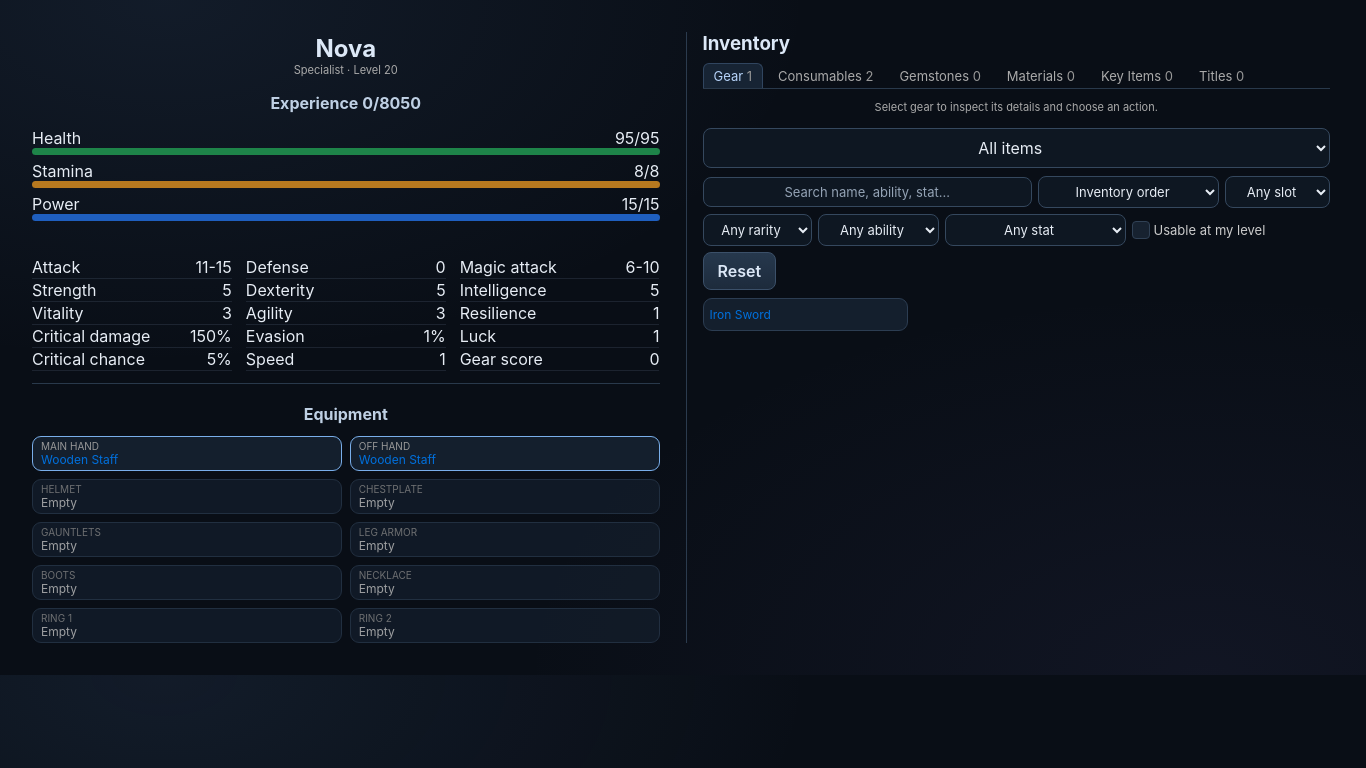
renames gear through the certificate UI and updates the remaining count
The width and height of the screenshot is (1366, 768).
Step 1. Click the tab "Consumables 2" → (826, 76), box [767,63,884,88]
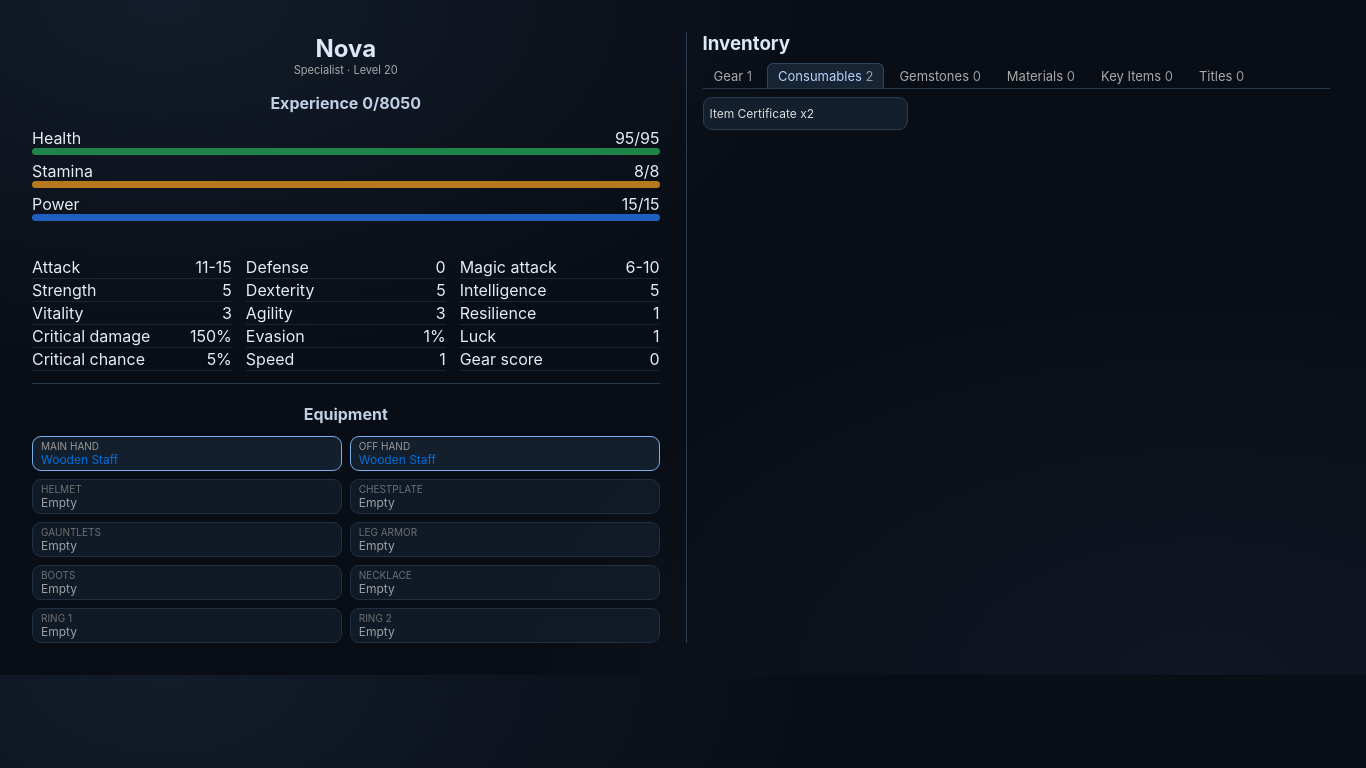
Step 2. Click the button "Item Certificate x2" → (805, 114), box [702,97,908,130]
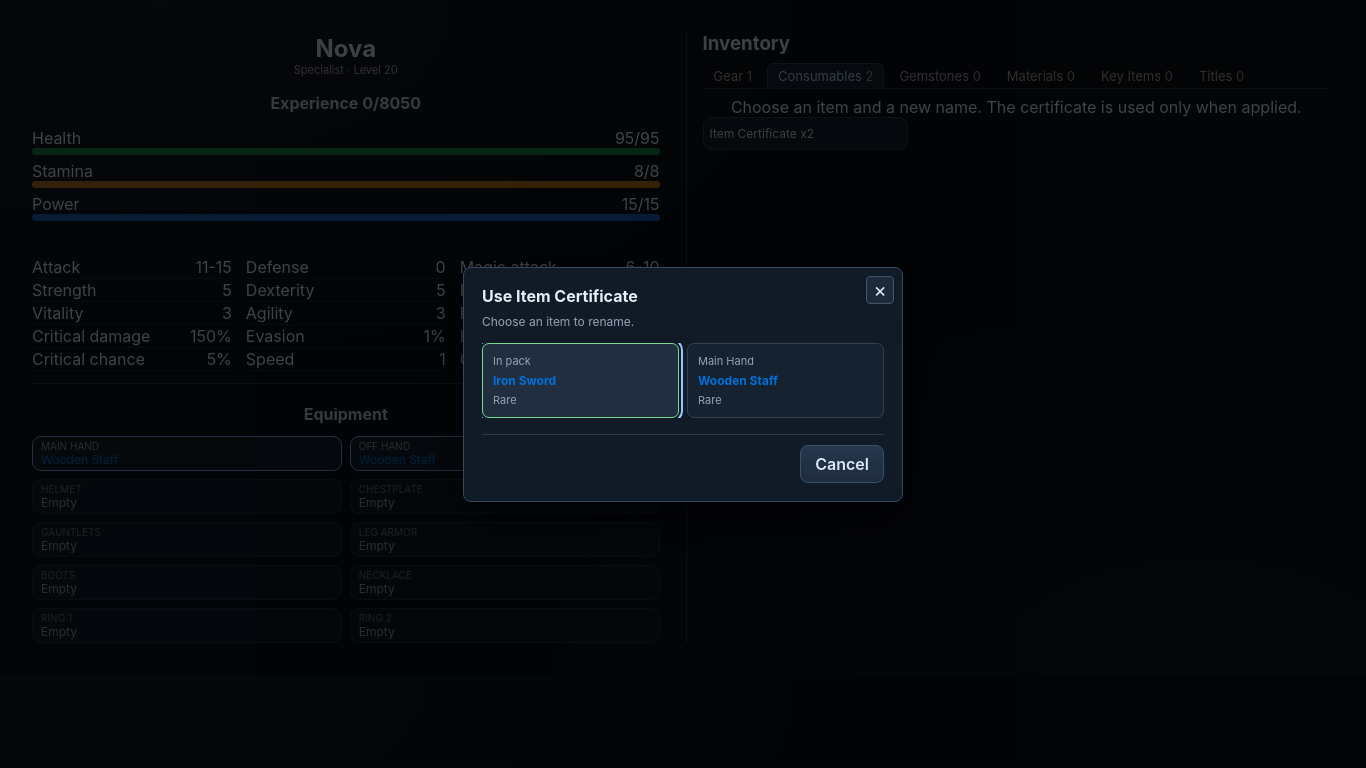
Check: the number of buttons "Main Hand Wooden Staff Rare" is 1, box [687,342,884,418]
Step 3. Click the button "In pack Iron Sword Rare" → (580, 380), box [482,342,679,418]
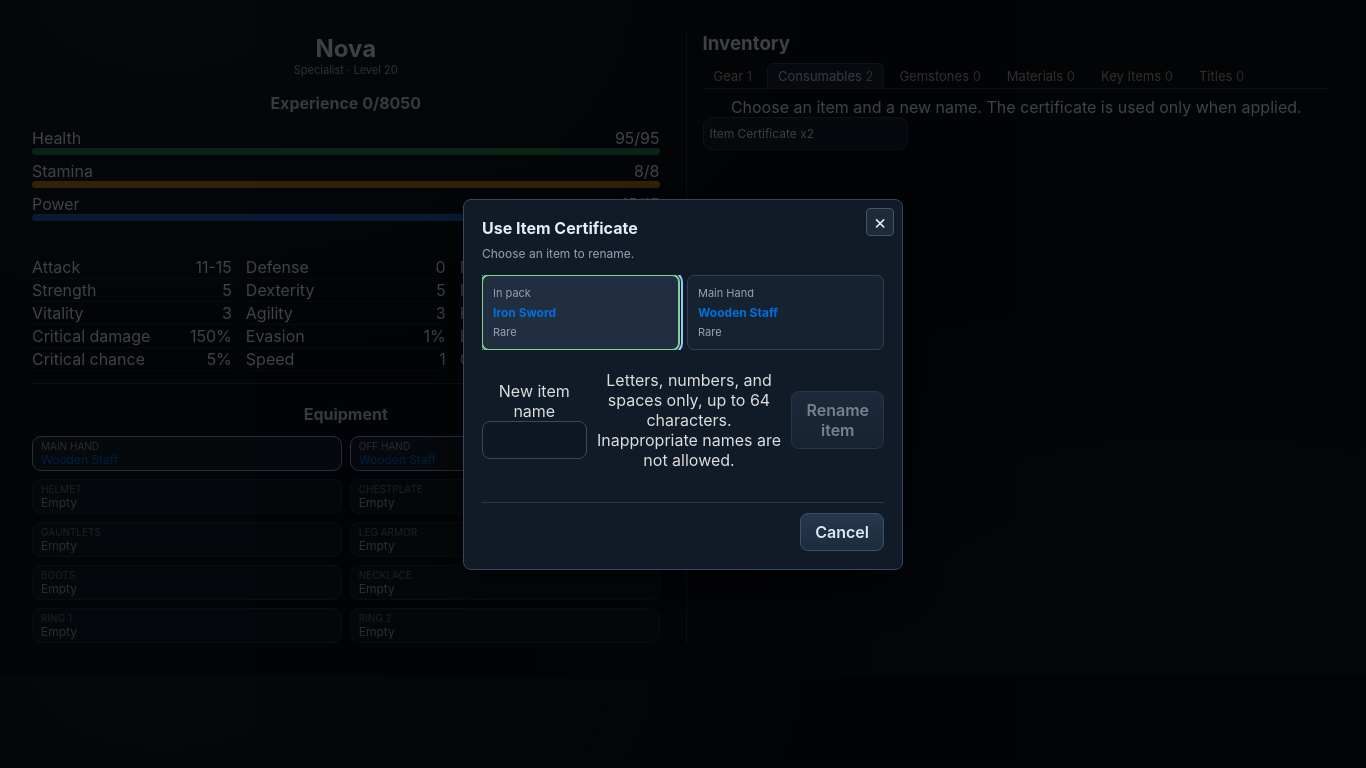
Step 4. Type "Nova Blade 42" into the field labelled "New item name" → (534, 440), box [482,420,587,458]
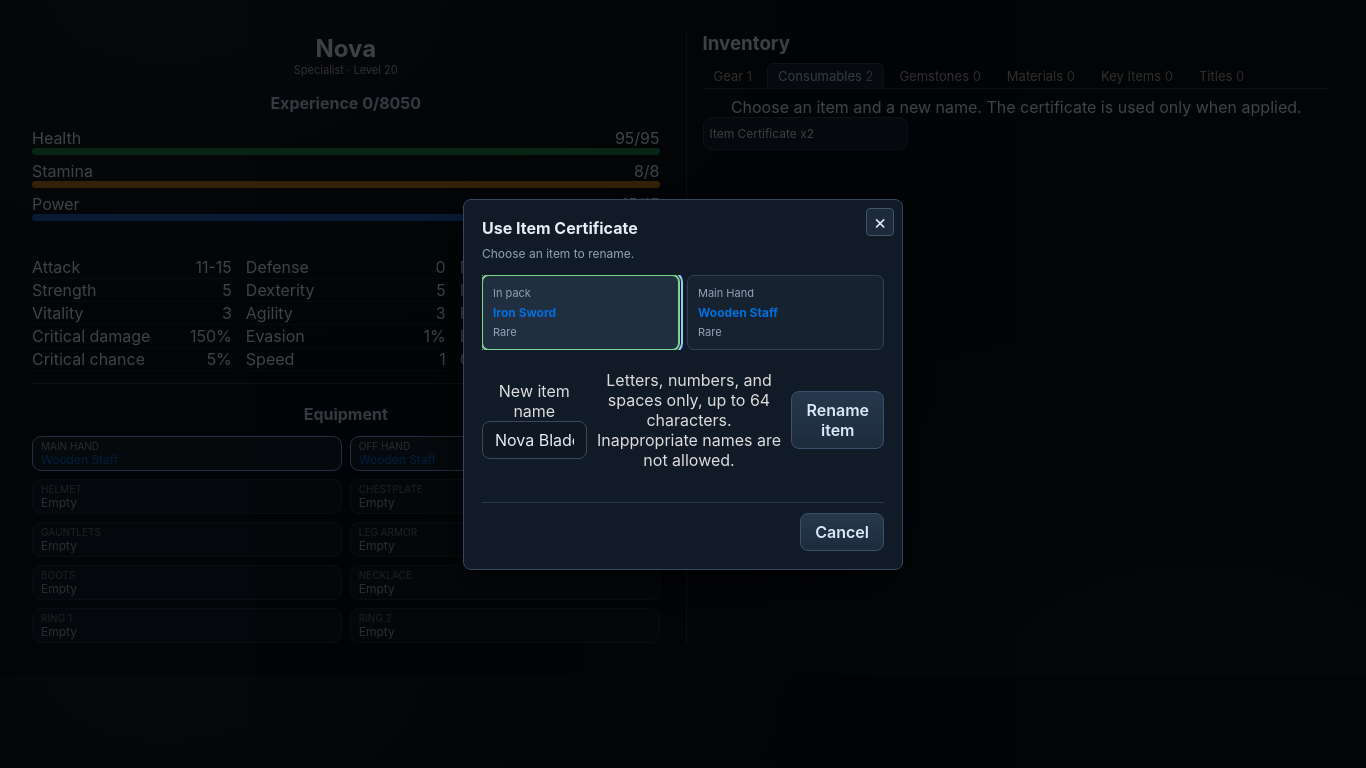
Step 5. Click the button "Rename item" → (838, 420), box [792,390,884,448]
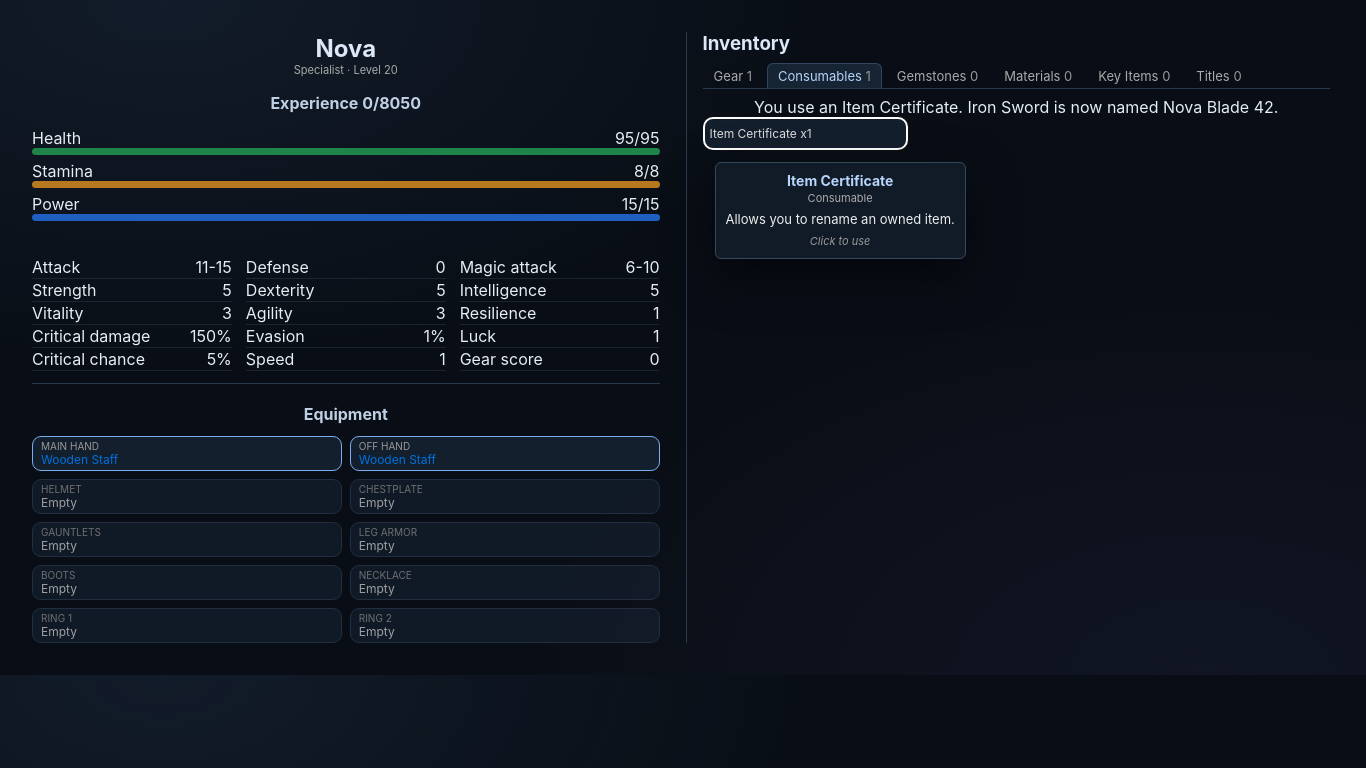
Check: the button "Item Certificate x1" is shown, box [702,117,908,150]
Check: the label labelled "New item name" is gone
